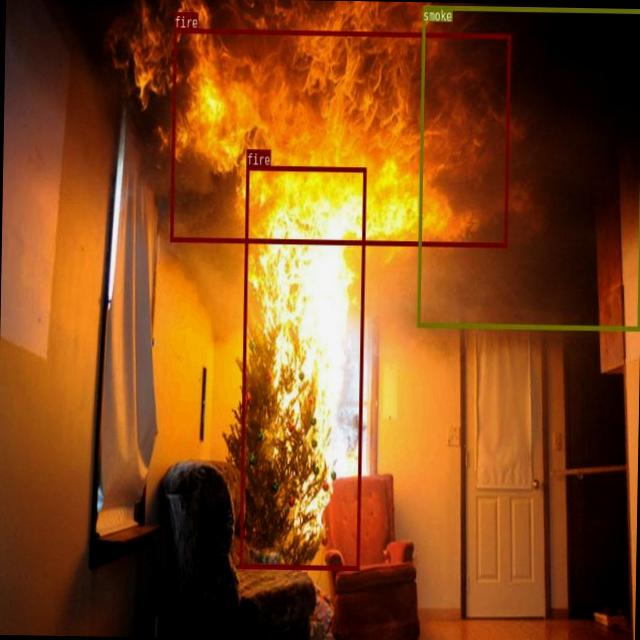fire: (168, 27, 510, 247), (238, 164, 364, 569)
smoke: (415, 4, 640, 329)
